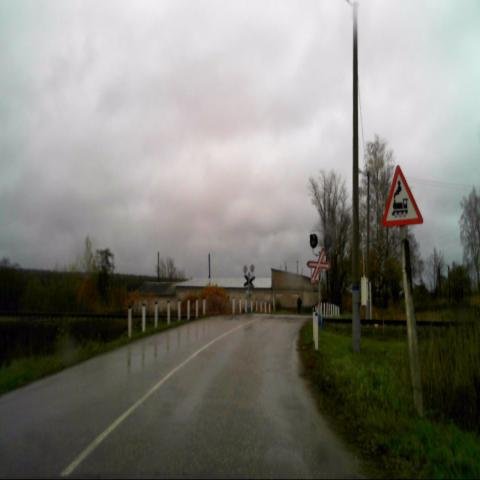1_2: (382, 164, 424, 227)
